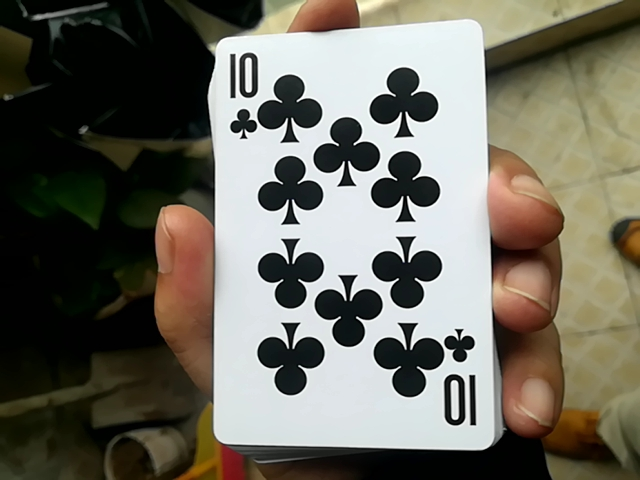mh 10: (212, 11, 489, 439)
